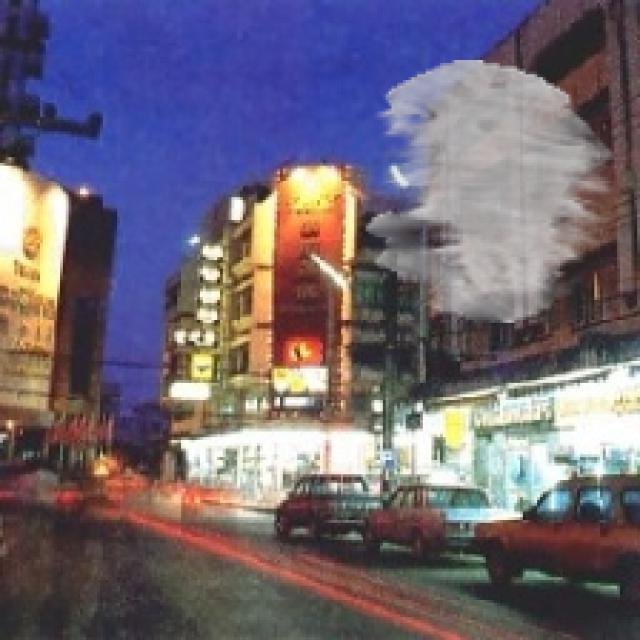smoke: (366, 60, 617, 323)
